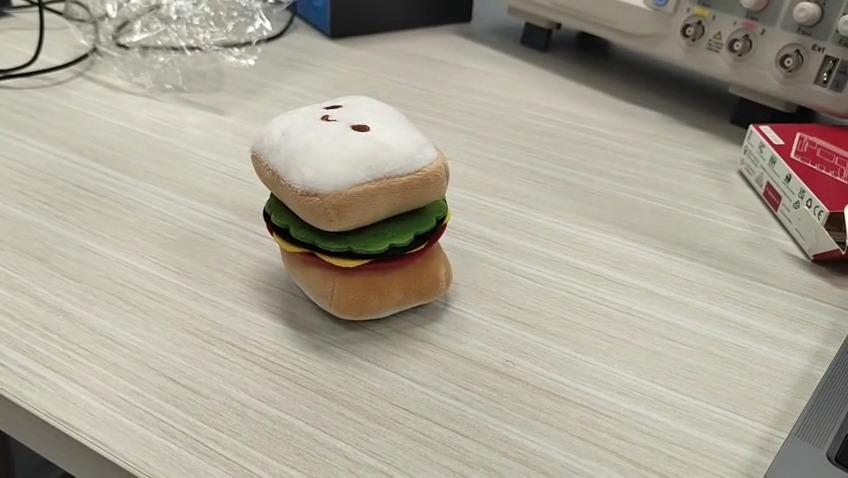objects: (251, 94, 455, 322)
